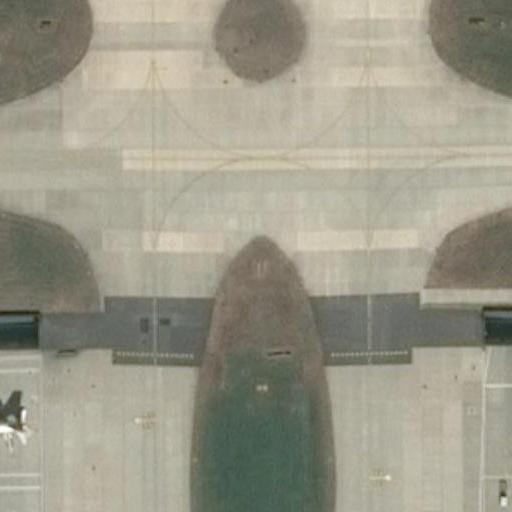Aircraft: (0, 376, 28, 473)
